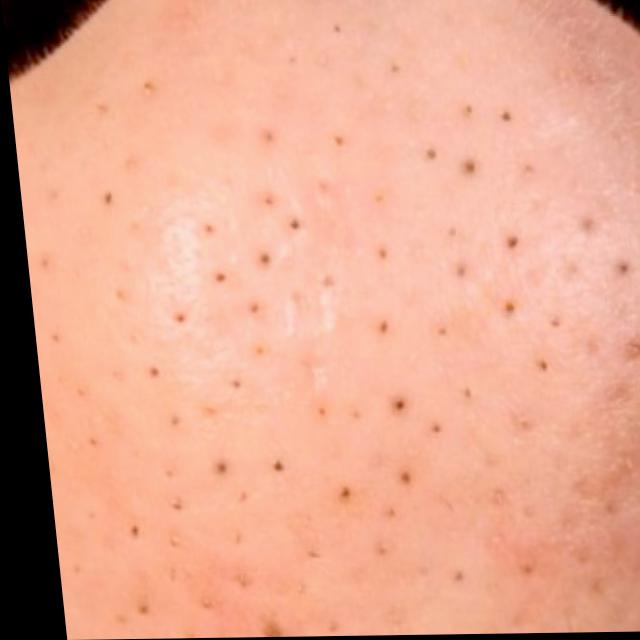blackhead: (18, 14, 640, 639)
